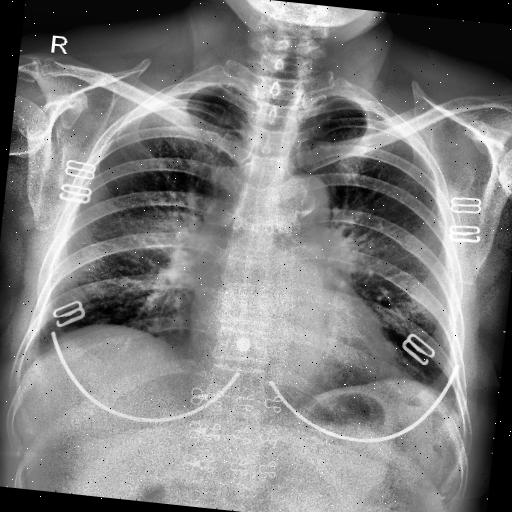0- Aortic enlargement: (273, 173, 333, 239), (272, 174, 332, 240), (273, 171, 333, 221)
